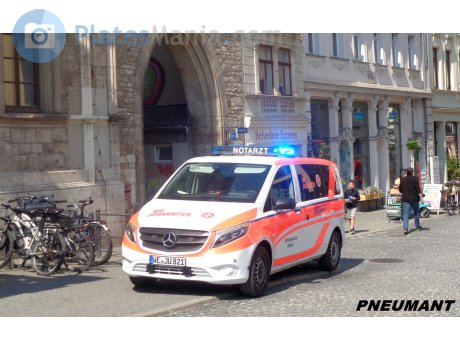License Plates: (150, 255, 185, 263)
